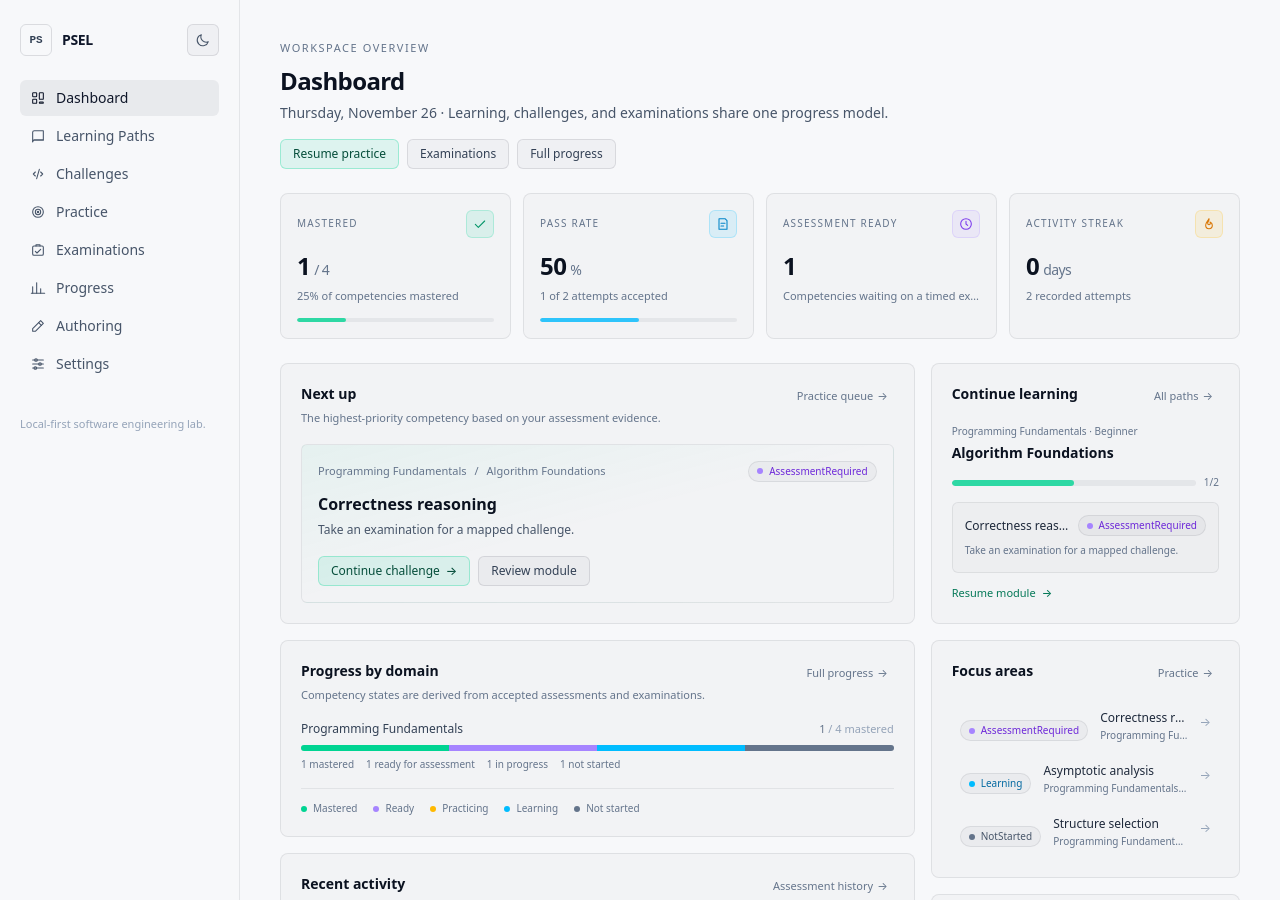
Test case: AppShell › navigates to the learning page without a full reload
Click the link "Learning Paths": click(92, 136) [30,126,155,145]
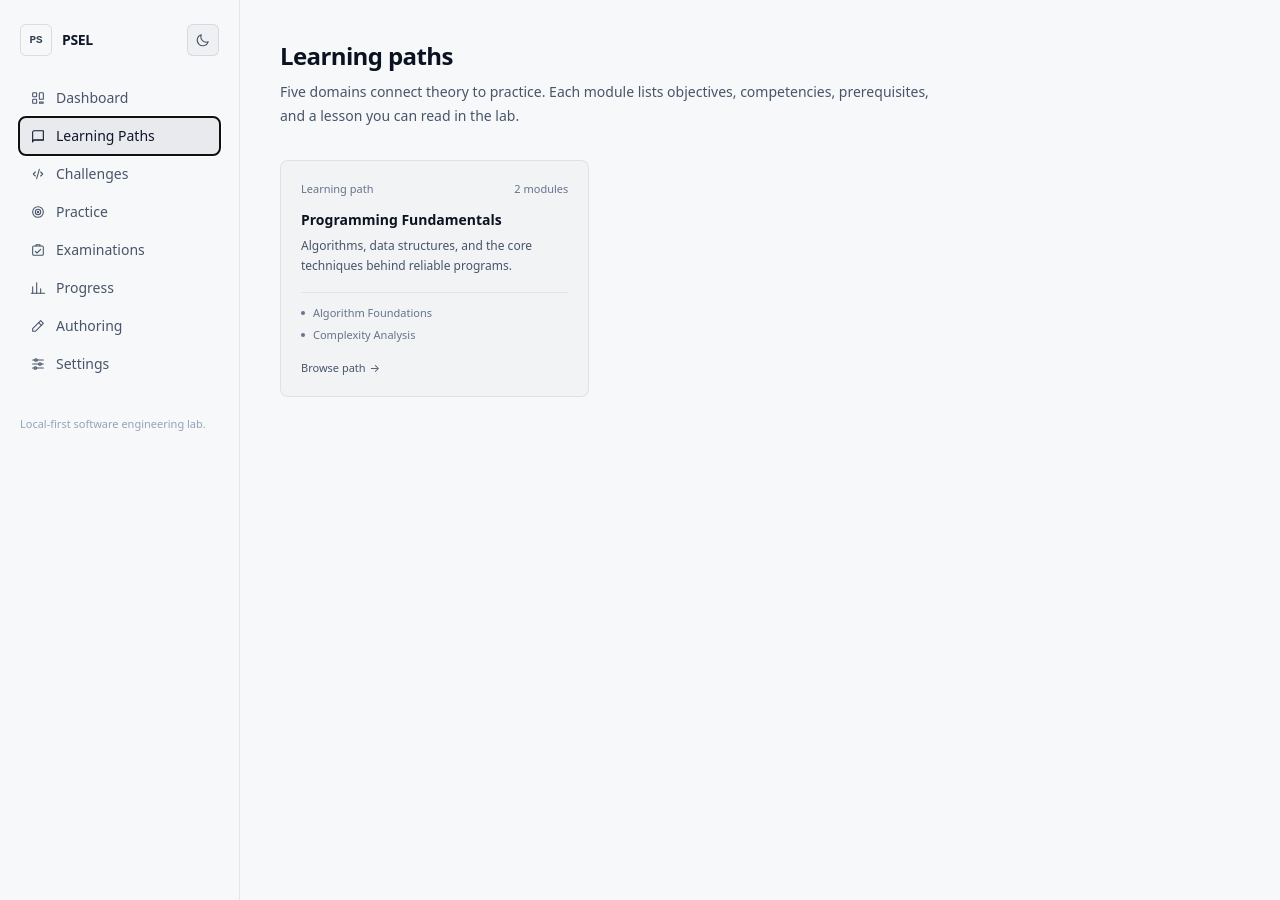
Now the heading "Learning paths" is shown, box [280,39,453,72]
